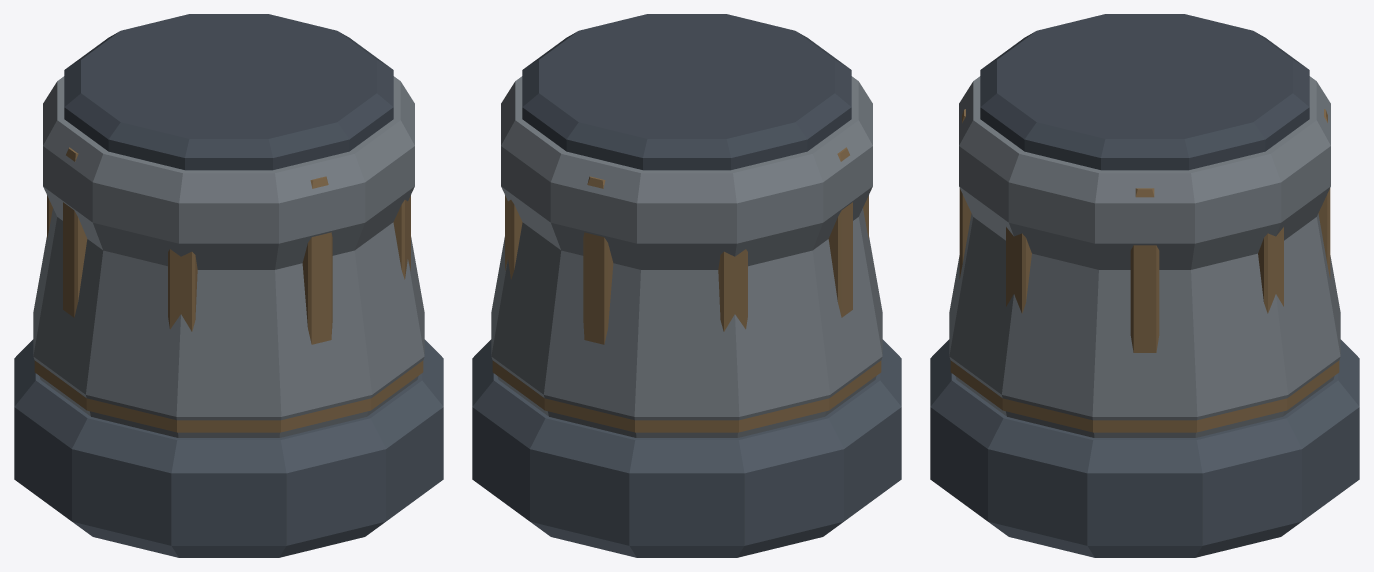
The model's file is SM_PG_CrystalPlinth.fbx.
3 views of the same model, side by side, from view 1: azimuth 30°, elevation 25°; view 2: azimuth 150°, elevation 25°; view 3: azimuth 270°, elevation 25° (orthographic).
Visible parts, largest first — view 1: SM_PG_CrystalPlinth; view 2: SM_PG_CrystalPlinth; view 3: SM_PG_CrystalPlinth.
Boxes of the visible parts, x1,y1,x2,y2 form: SM_PG_CrystalPlinth: (14, 14, 443, 557); SM_PG_CrystalPlinth: (472, 14, 901, 557); SM_PG_CrystalPlinth: (930, 14, 1359, 557).
Size of the model in its own units: 96.59 by 96.59 by 100.
